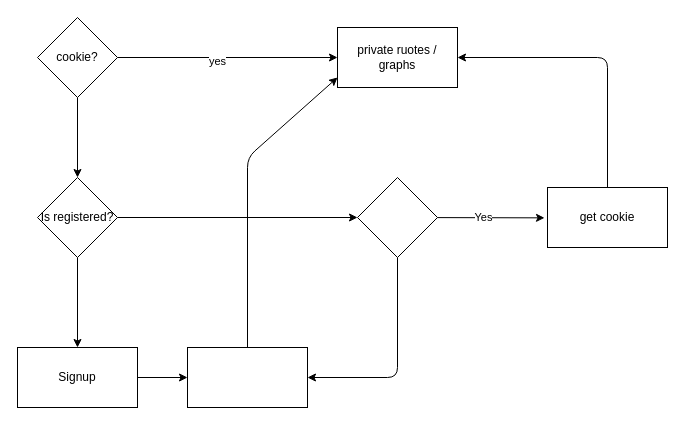
The diagram is 685 pixels wide and 425 high, and some of its shapes have lost their labels. The shapes that lost their labels are listed below. From the top down, each one's box as (x1, y1, x2, y2) in pixels, then its label:
(356, 176, 438, 258): Is confirmed?
(186, 346, 308, 408): Confirm session
